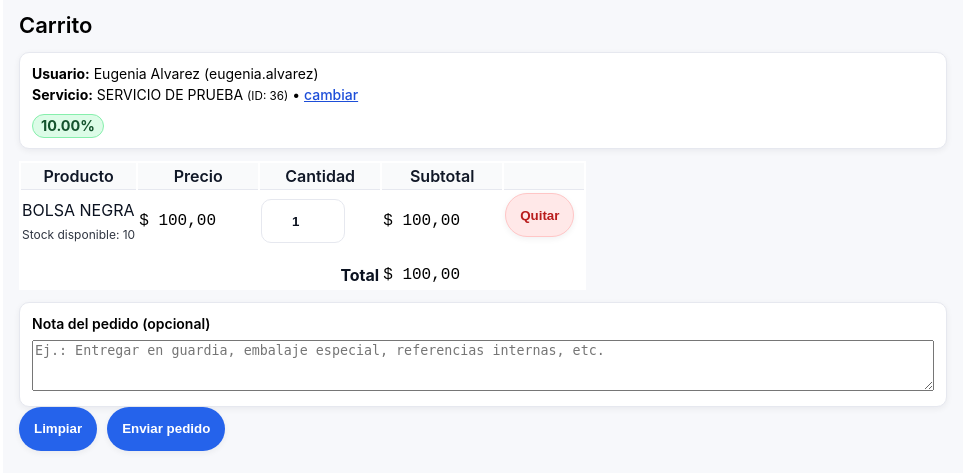
Scenario: Cart — editar la cantidad › no deja pasarse del stock disponible
Replace the text in the number field named "Cantidad de BOLSA NEGRA" with "99" at (303, 221), box [261,199,345,243]
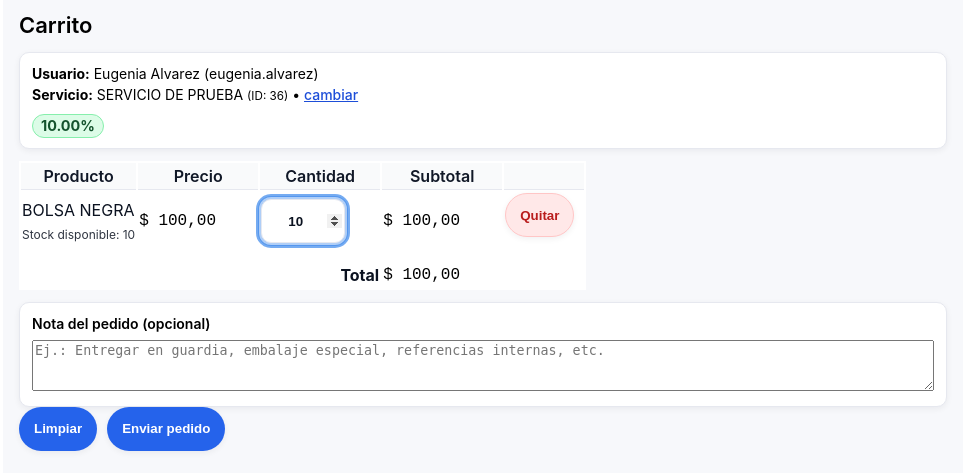
Now the number field named "Cantidad de BOLSA NEGRA" holds "10", box [261,199,345,243]
